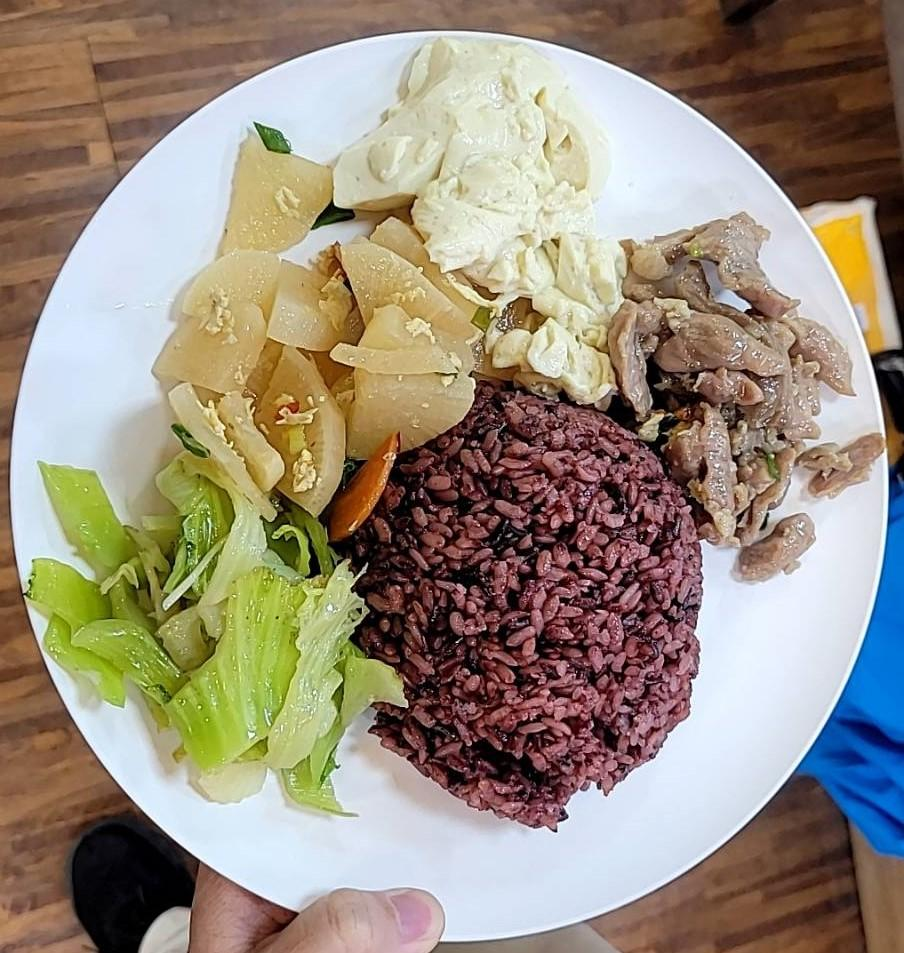big fried chicken leg: (8, 30, 904, 951)
braised fish: (346, 412, 709, 828)
braised fish fillet: (38, 450, 370, 817), (162, 139, 483, 496), (339, 38, 608, 393)
braised pork: (624, 214, 895, 571)
